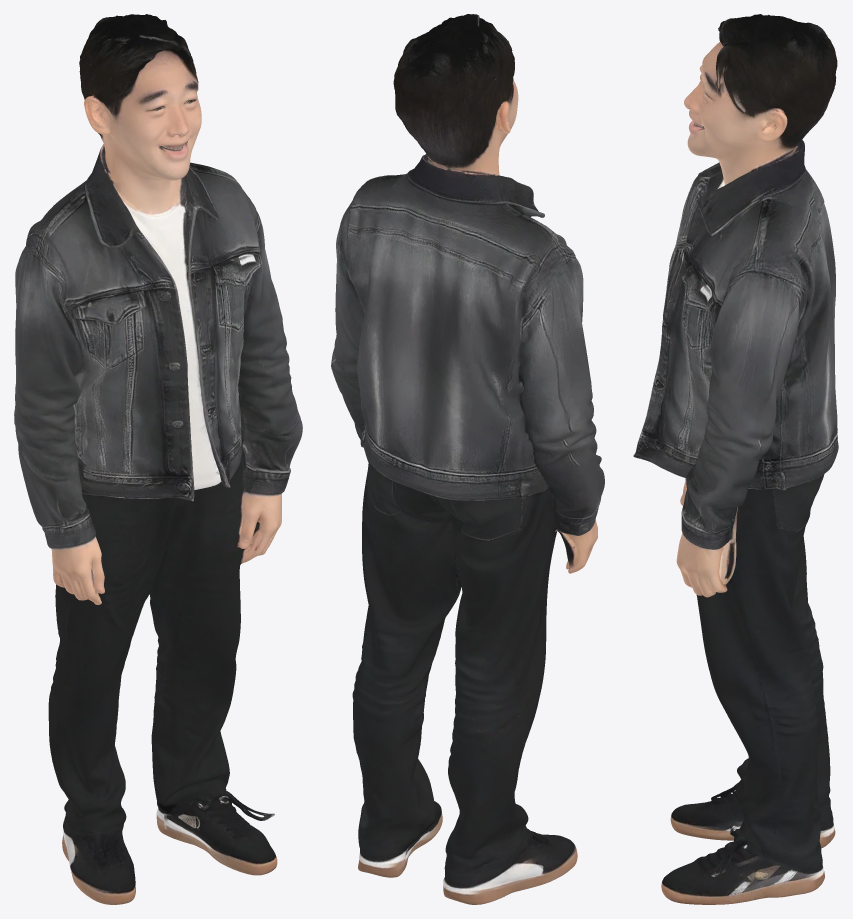
File: bazra.glb
3 renders of one model, left to right at view 1: azimuth 30°, elevation 25°; view 2: azimuth 150°, elevation 25°; view 3: azimuth 270°, elevation 25°, orthographic.
Bounding box in the file's own units: 0.6217 × 1.9 × 0.4198.
Materials: 1 (1 with a texture image).
